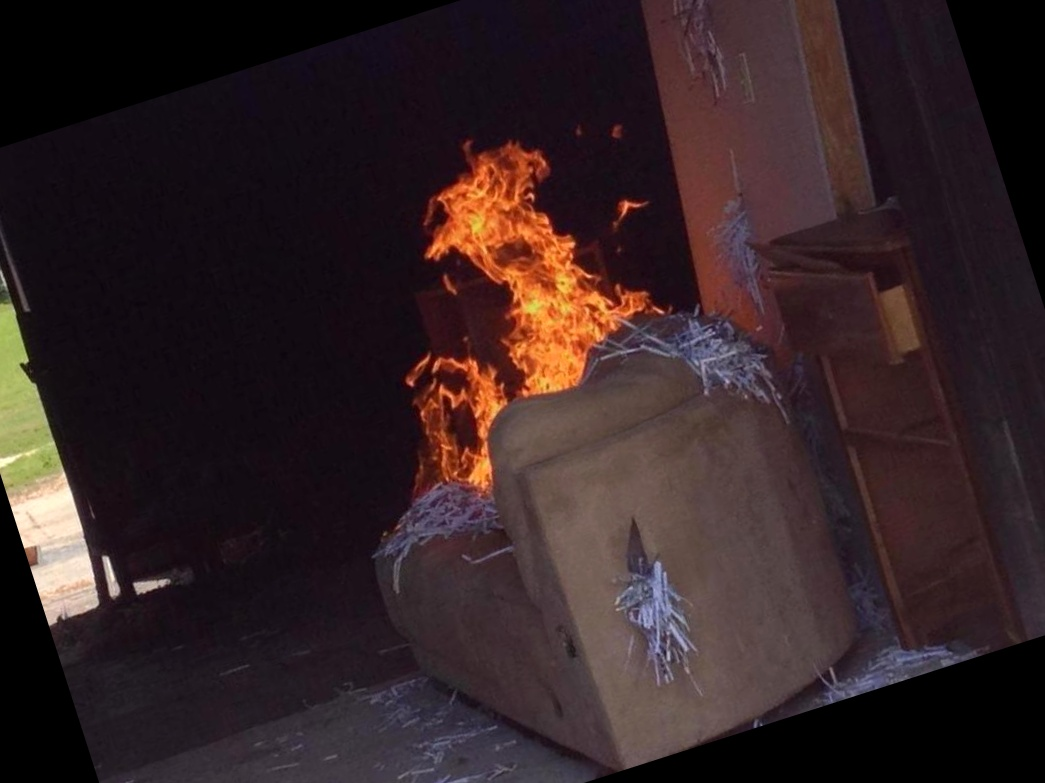fire: (305, 94, 704, 545)
